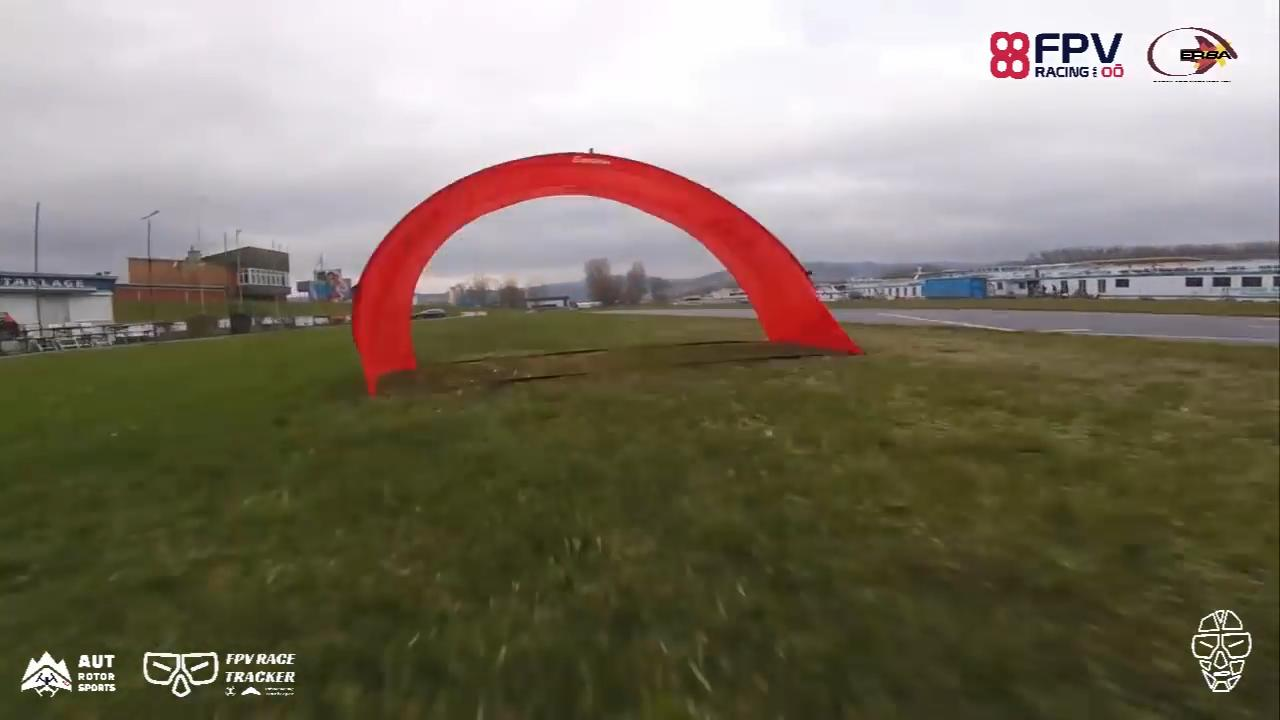gate: (341, 149, 866, 399)
